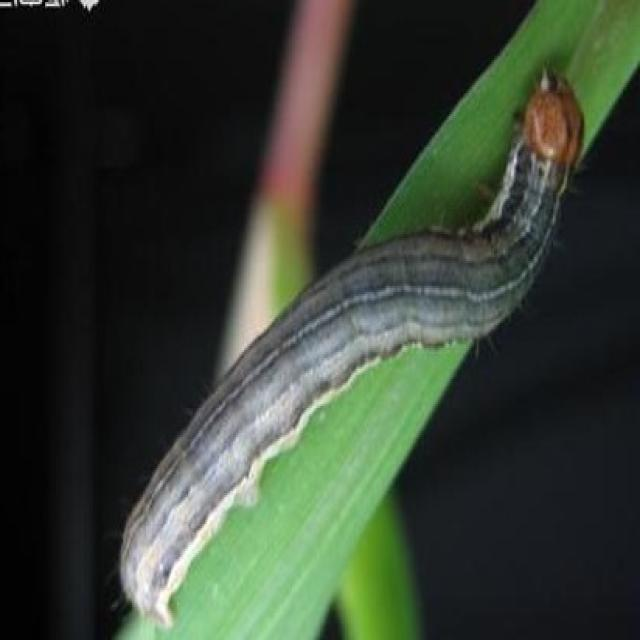army worm: (113, 69, 591, 626)
